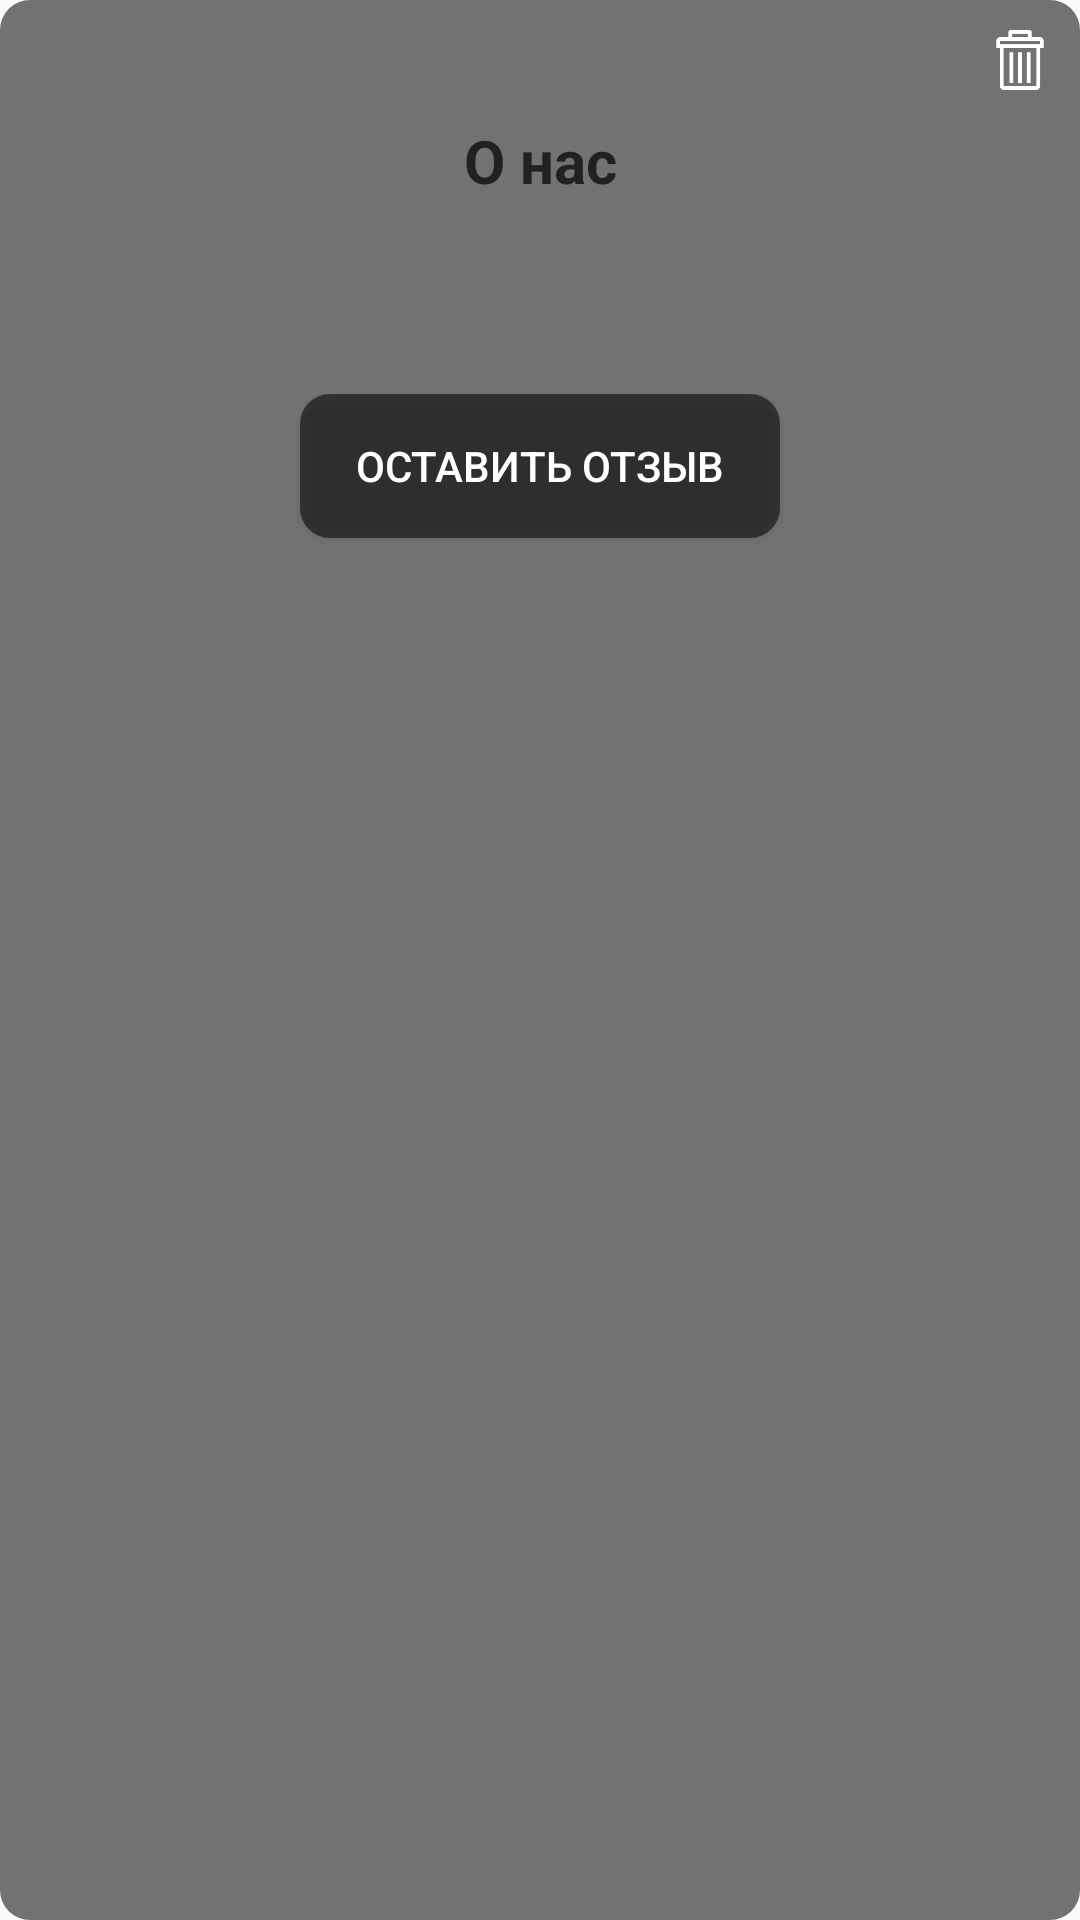

Named icons in this screenshot (1080px x 1920px) and their bounding boxes, (left=x1, top=y1, right=x2, bottom=y2):
del: (left=996, top=30, right=1044, bottom=90)
